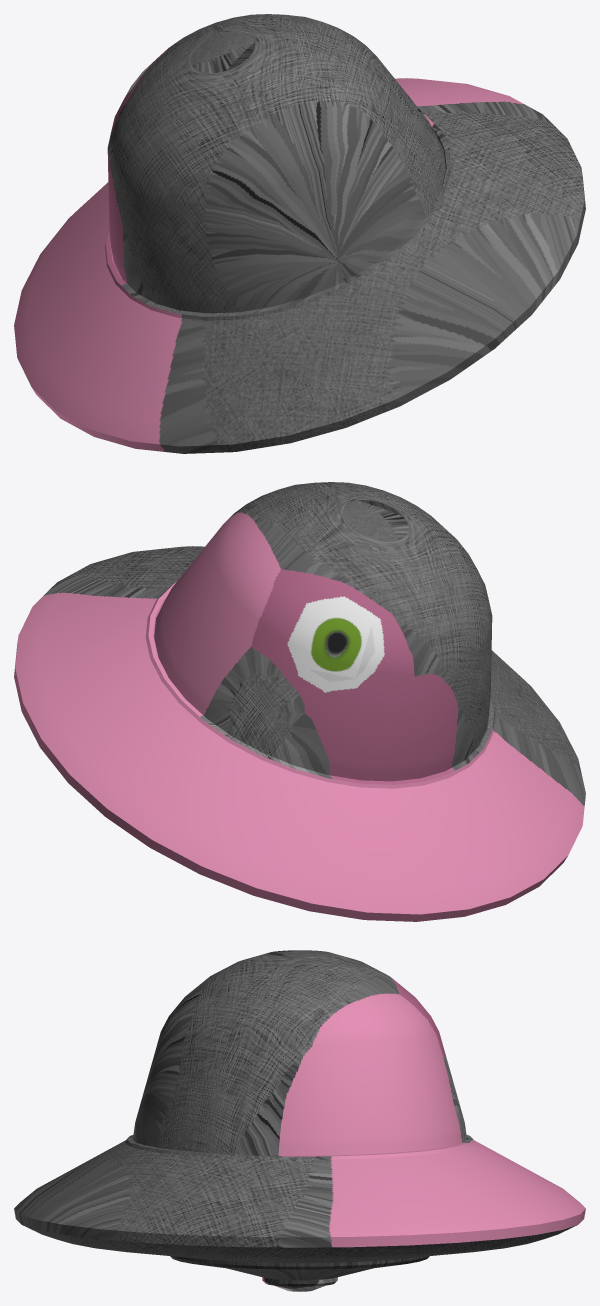
Rendered from nave_ufo.FBX.
3 views of the same model, one above another, from view 1: azimuth 30°, elevation 25°; view 2: azimuth 150°, elevation 25°; view 3: azimuth 270°, elevation 25° (orthographic). The views are drawn at different scales.
Visible parts, largest first — view 1: Sphere001; view 2: Sphere001; view 3: Sphere001.
Boxes of the visible parts, x1,y1,x2,y2 form: Sphere001: (14, 14, 585, 453); Sphere001: (14, 482, 585, 921); Sphere001: (14, 950, 585, 1291).
Size of the model in its own units: 45.1 by 29.99 by 47.61.
